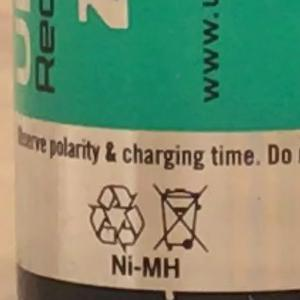keyword: (102, 247, 190, 285)
